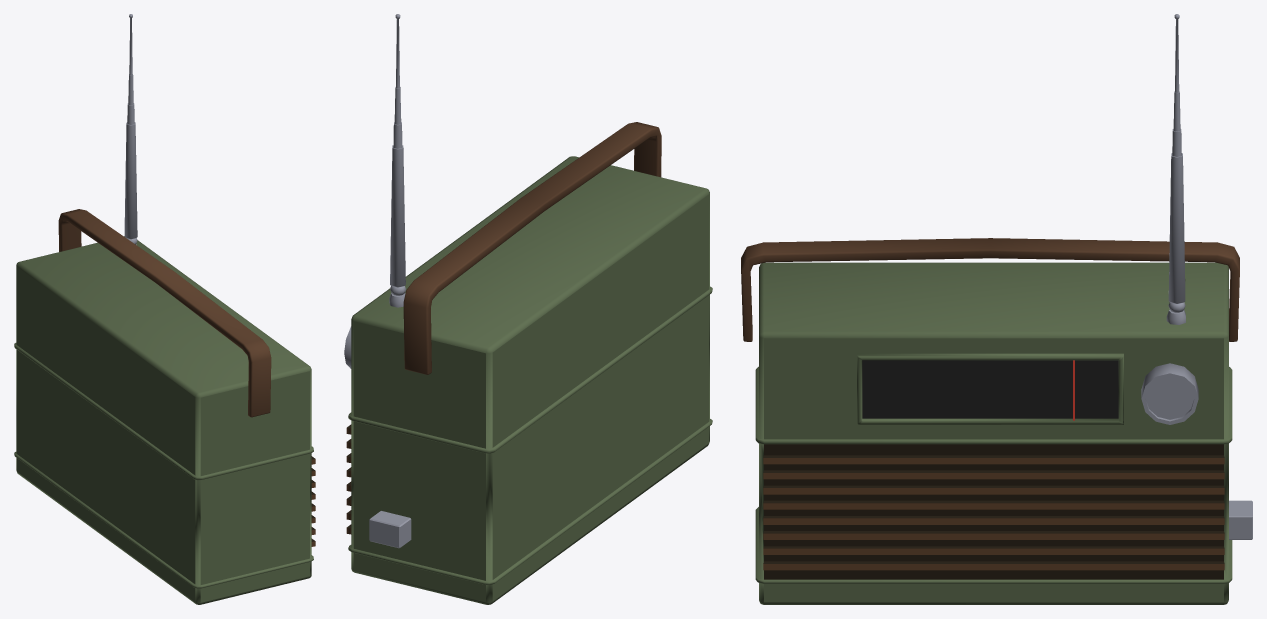
Rendered from RadioV2.fbx.
3 views of the same model, side by side, from view 1: azimuth 30°, elevation 25°; view 2: azimuth 150°, elevation 25°; view 3: azimuth 270°, elevation 25° (orthographic). The views are drawn at different scales.
Parts seen in each view (by area): view 1: RadioBase, RadioHandle, Cylinder; view 2: RadioBase, RadioHandle, Cylinder, OnOffButton; view 3: RadioBase, RadioHandle, Cylinder, RotationButton, OnOffButton.
Part boxes in pixels (box(x1,y1,x2,y2)): RadioBase: box(14, 236, 315, 604); RadioHandle: box(58, 209, 271, 417); Cylinder: box(124, 14, 137, 245); RadioBase: box(346, 156, 712, 604); RadioHandle: box(403, 122, 661, 374); Cylinder: box(389, 14, 405, 307); OnOffButton: box(369, 511, 411, 548); RadioBase: box(755, 262, 1232, 604); RadioHandle: box(741, 238, 1239, 341); Cylinder: box(1166, 14, 1185, 324); RotationButton: box(1141, 363, 1198, 424); OnOffButton: box(1229, 500, 1252, 539).
Size of the model in its own units: 10.49 by 33.6 by 26.88.
